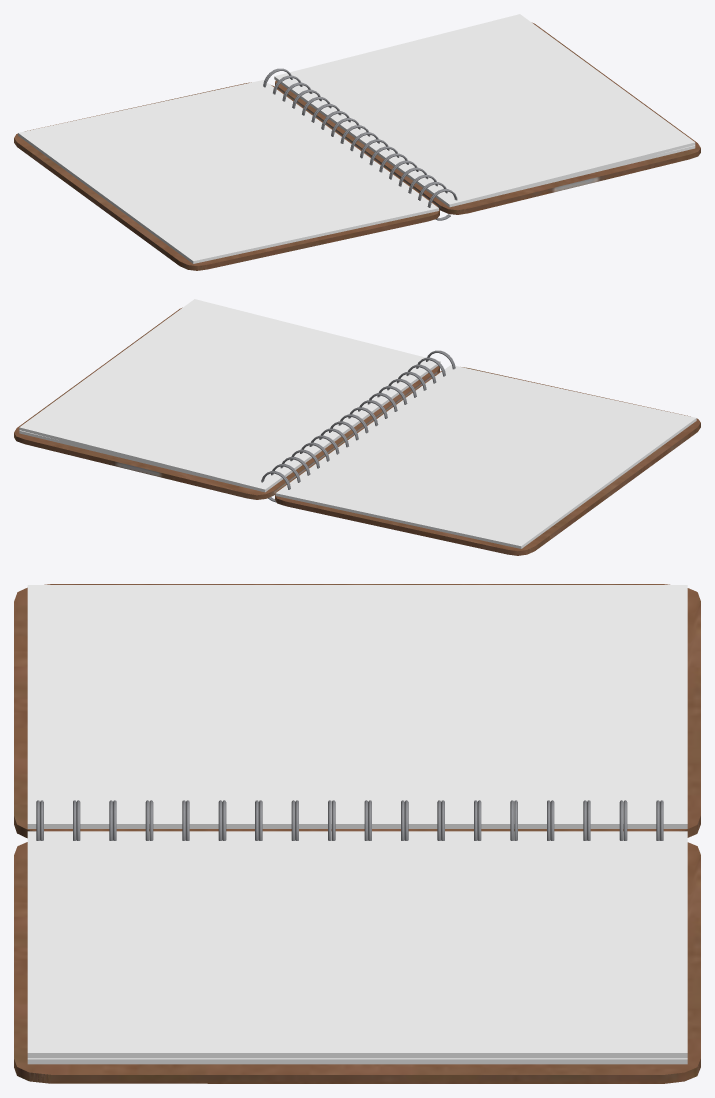
The model's file is notebook.glb.
The picture shows the model from 3 angles, top to bottom: view 1: azimuth 30°, elevation 25°; view 2: azimuth 150°, elevation 25°; view 3: azimuth 270°, elevation 25°; orthographic projection. The views are drawn at different scales.
Parts seen in each view (by area): view 1: notebook_02_low_low_0.002, notebook_02_low_low_0.003, notebook_03_low, notebook_01_low, notebook_02_low_low_0.001; view 2: notebook_02_low_low_0.002, notebook_02_low_low_0.003, notebook_03_low, notebook_01_low, notebook_02_low_low_0.001; view 3: notebook_02_low_low_0.003, notebook_02_low_low_0.002, notebook_03_low, notebook_01_low, notebook_02_low_low_0.001.
Boxes of the visible parts, x1,y1,x2,y2 form: notebook_02_low_low_0.002: (274,14,695,206); notebook_02_low_low_0.003: (18,80,438,263); notebook_03_low: (14,22,700,270); notebook_01_low: (263,68,457,220); notebook_02_low_low_0.001: (274,78,695,207); notebook_02_low_low_0.002: (19,299,440,492); notebook_02_low_low_0.003: (275,365,696,548); notebook_03_low: (14,307,700,555); notebook_01_low: (261,350,455,502); notebook_02_low_low_0.001: (19,365,438,492); notebook_02_low_low_0.003: (27,585,687,828); notebook_02_low_low_0.002: (27,831,687,1058); notebook_03_low: (14,584,700,1083); notebook_01_low: (36,800,663,840); notebook_02_low_low_0.001: (27,1058,687,1064).
Bounding box in the file's own units: 9.38 × 0.5227 × 5.72.
Materials: 4 (4 with a texture image).
